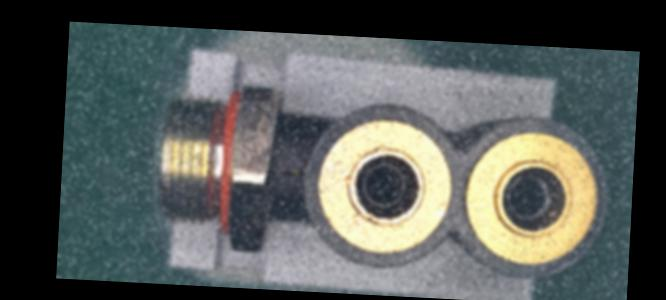craze: (266, 165, 306, 179)
